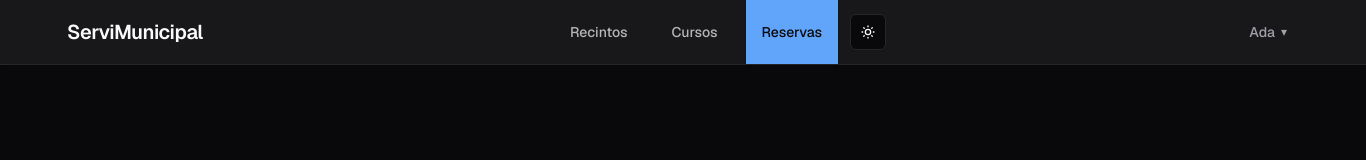
it: NavBar › abre el menú y hace click en Ver perfil
// Abrir el dropdown de usuario
Click the button "Ada ▾". click: coordinates (1268, 32)
box: x1=1237 y1=14 x2=1299 y2=50
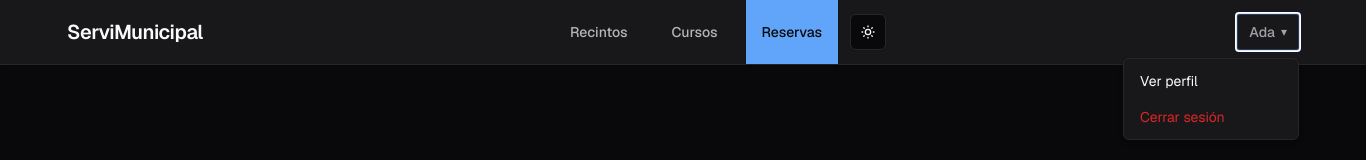
// Hacer click en "Ver perfil"
Click the button "Ver perfil". click: coordinates (1211, 81)
box: x1=1124 y1=63 x2=1298 y2=99
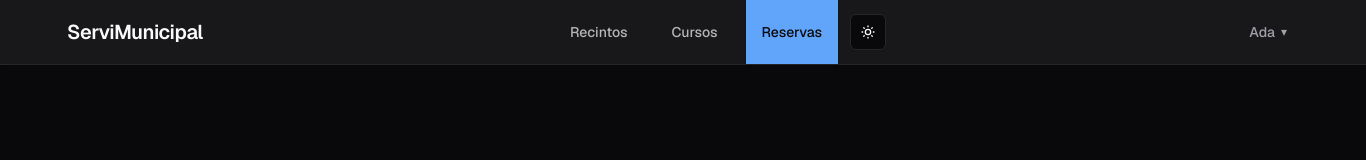
Expected: the button "Cerrar" is gone
